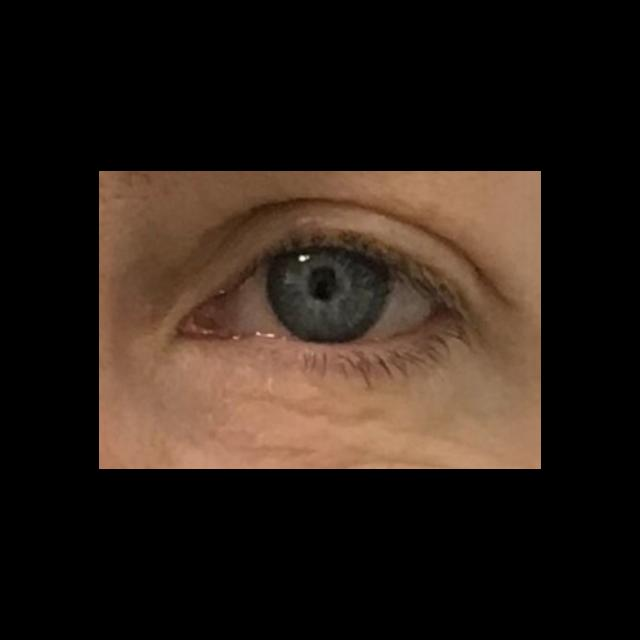eye: (229, 245, 435, 348)
iris: (271, 249, 390, 342)
